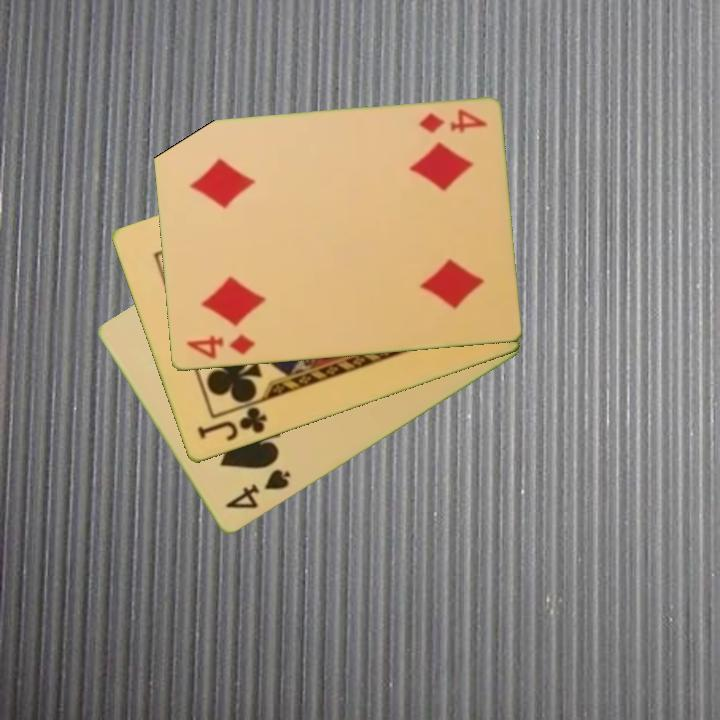4d: (182, 330, 258, 362), (415, 106, 490, 137)
4s: (221, 465, 294, 513)
Jc: (193, 404, 270, 445)
